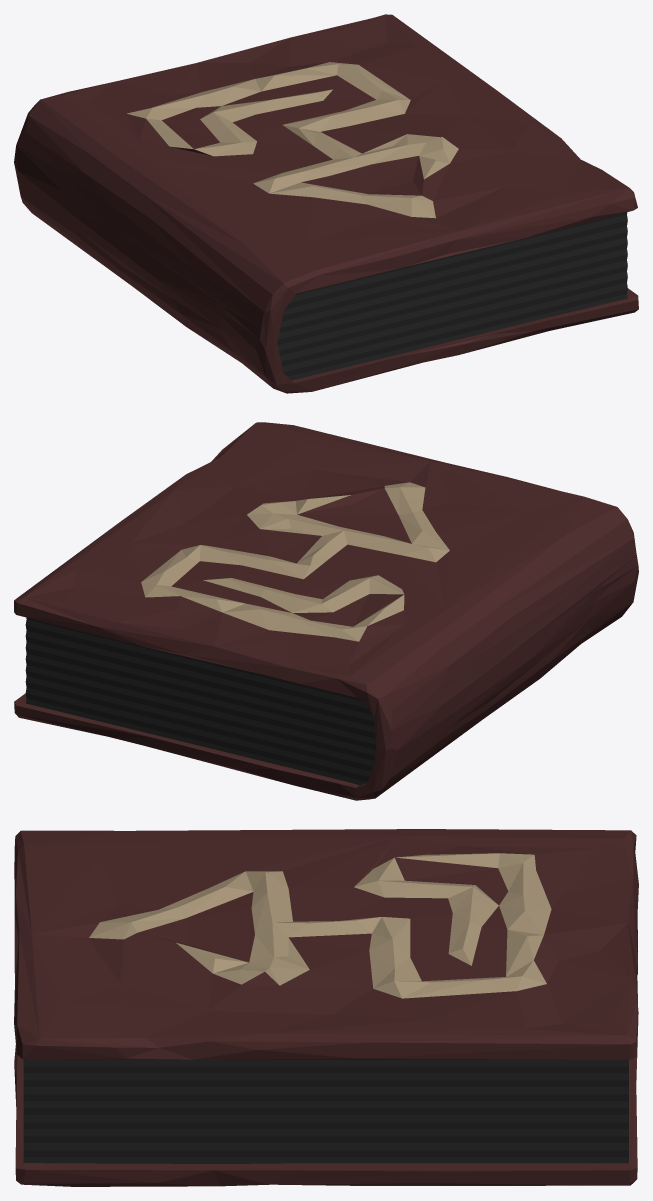
The model's file is magic book.glb.
The picture shows the model from 3 angles, top to bottom: view 1: azimuth 30°, elevation 25°; view 2: azimuth 150°, elevation 25°; view 3: azimuth 270°, elevation 25°; orthographic projection. The views are drawn at different scales.
Visible parts, largest first — view 1: Cylinder, Cube; view 2: Cylinder, Cube; view 3: Cylinder, Cube.
Boxes of the visible parts, x1,y1,x2,y2 form: Cylinder: (14, 14, 638, 393); Cube: (277, 212, 627, 380); Cylinder: (14, 422, 638, 800); Cube: (25, 617, 376, 785); Cylinder: (14, 829, 638, 1186); Cube: (23, 1059, 628, 1163).
Size of the model in its own units: 0.3583 by 0.121 by 0.4127.
